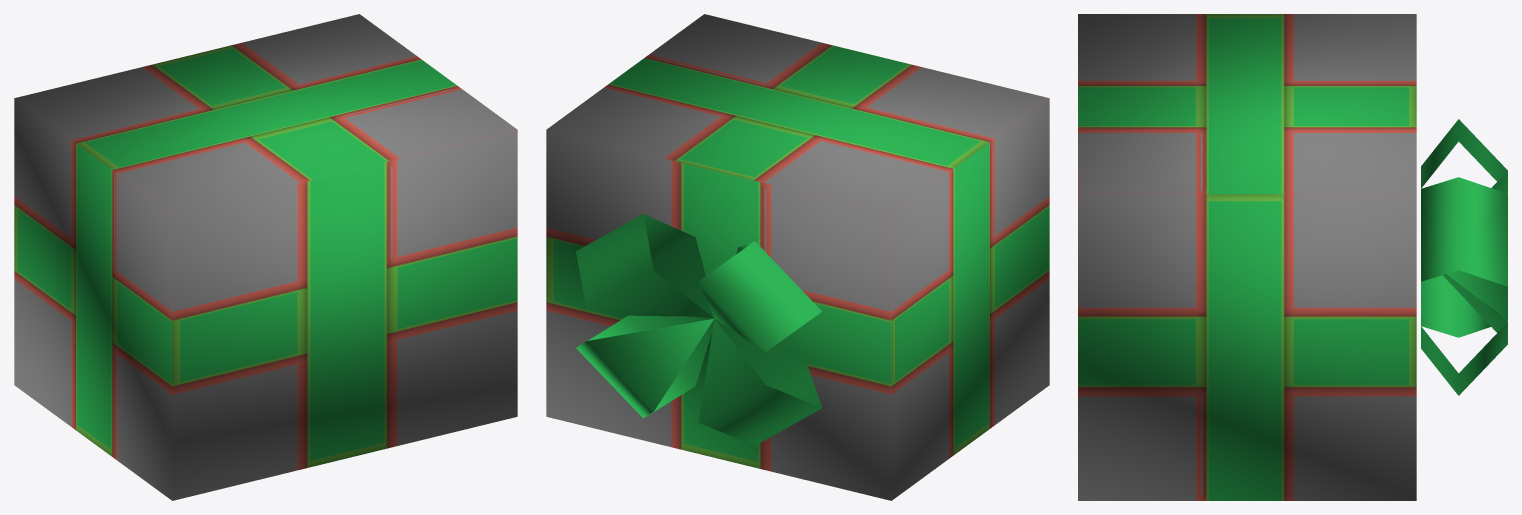
Rendered from Present_red_b.fbx.
The picture shows the model from 3 angles, left to right: view 1: azimuth 30°, elevation 25°; view 2: azimuth 150°, elevation 25°; view 3: azimuth 270°, elevation 25°; orthographic projection. The views are drawn at different scales.
Visible parts, largest first — view 1: Present_red_b; view 2: Present_red_b; view 3: Present_red_b.
Boxes of the visible parts, x1,y1,x2,y2 form: Present_red_b: (14, 14, 517, 500); Present_red_b: (546, 14, 1049, 500); Present_red_b: (1078, 14, 1507, 500).
Bounding box in the file's own units: 110 × 87.15 × 111.
